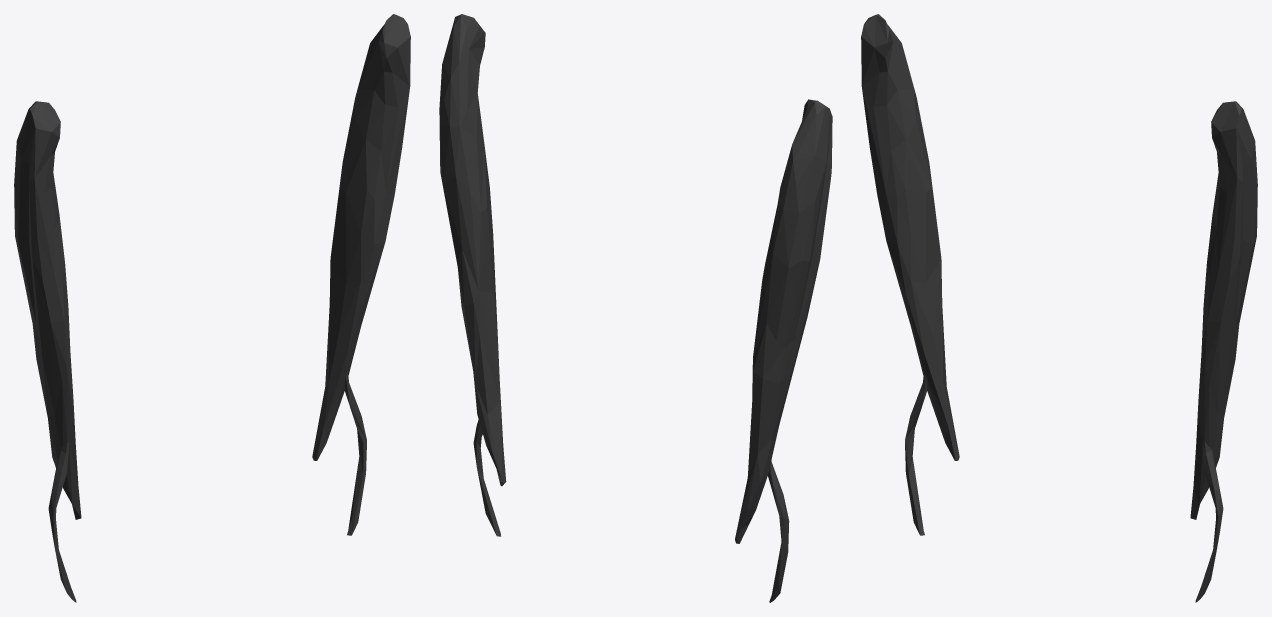
File: m_ulnaris_lateralis.glb
3 views of the same model, side by side, from view 1: azimuth 30°, elevation 25°; view 2: azimuth 150°, elevation 25°; view 3: azimuth 330°, elevation 25° (orthographic).
Visible parts, largest first — view 1: m_ulnaris_lateralis; view 2: m_ulnaris_lateralis; view 3: m_ulnaris_lateralis.
Part boxes in pixels (<box>): m_ulnaris_lateralis: <box>14,14,410,602</box>; m_ulnaris_lateralis: <box>439,14,832,602</box>; m_ulnaris_lateralis: <box>861,14,1257,602</box>.
Size of the model in its own units: 0.00612 by 0.00782 by 0.000962.
1 material, 1 textured.
